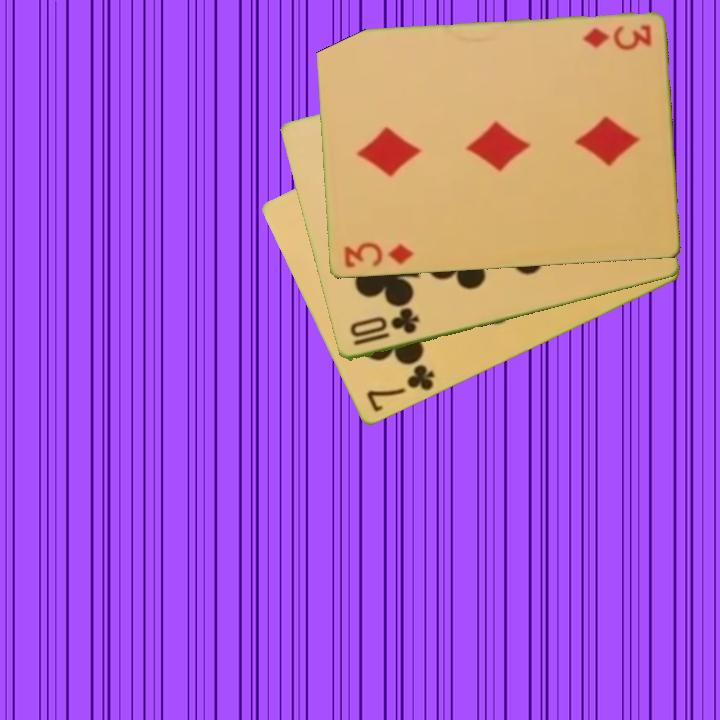10c: (346, 306, 422, 349)
3d: (340, 239, 416, 272), (579, 21, 654, 51)
7c: (362, 361, 438, 415)
